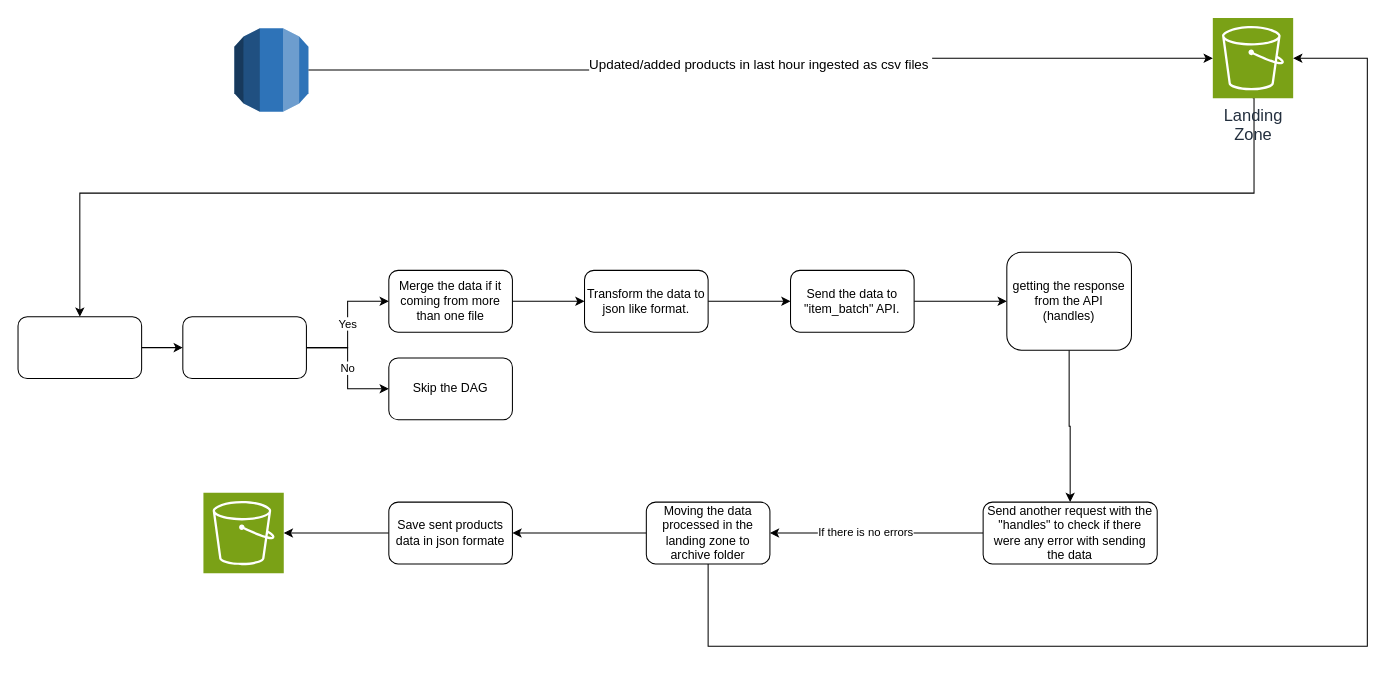
Some shapes in this 1394 by 673 pixel diagram are drawn without their labels. Here are the shapes that lost their labels. From the top down, the box of each, then its label:
(233, 27, 308, 112): Operation Database
(17, 316, 142, 379): Extract Landing Zone data
(182, 316, 306, 379): checking data (Availability & Consistency)
(202, 492, 284, 573): Synced Products
